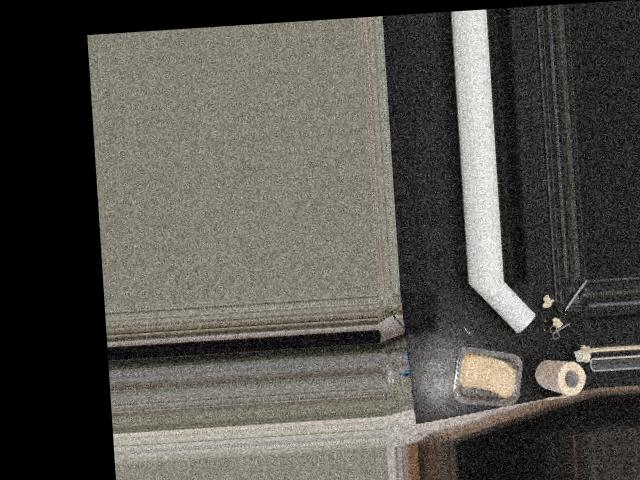cheese: (449, 345, 524, 404)
